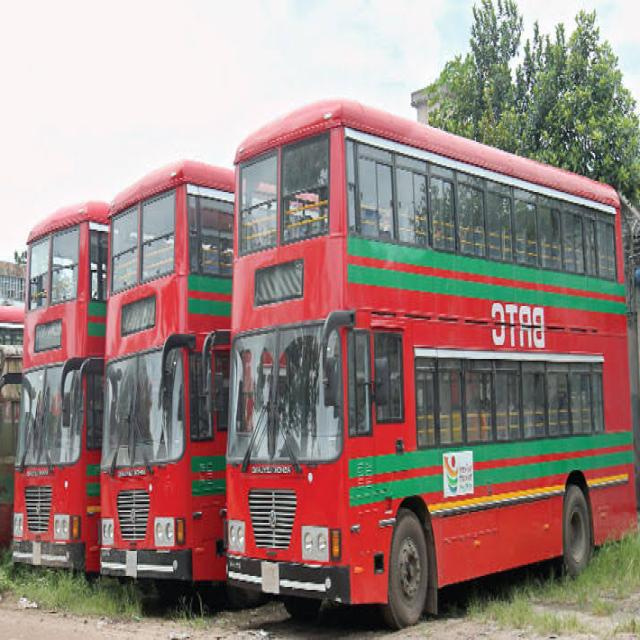Double decker: (214, 73, 640, 635), (88, 147, 466, 610), (9, 184, 329, 603)
